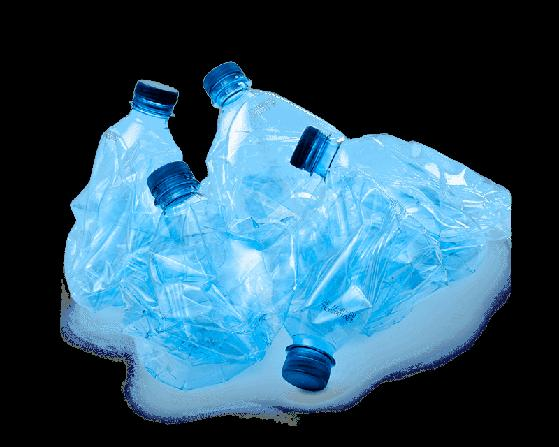Plastik: (277, 105, 528, 319), (232, 214, 425, 388), (62, 74, 202, 311), (144, 160, 286, 379), (196, 56, 345, 240)
